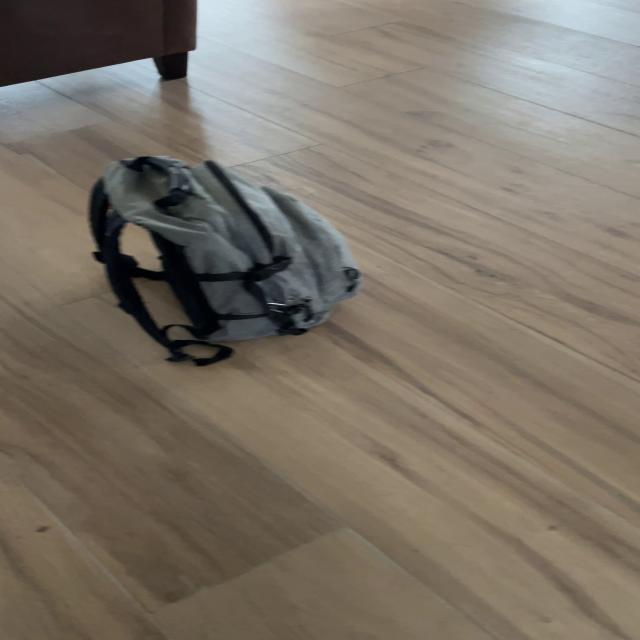backpack: (52, 153, 388, 360)
